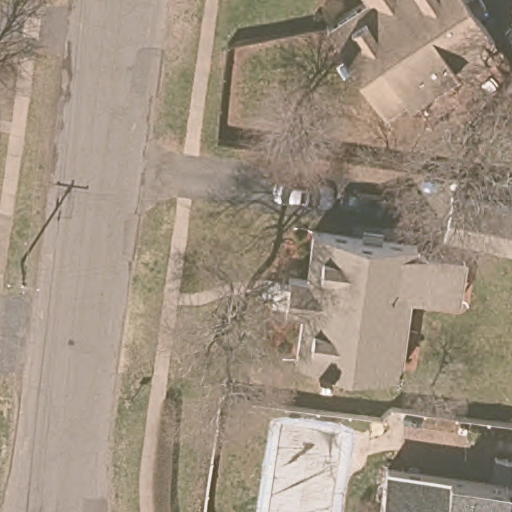DT: (5, 259, 41, 297)
